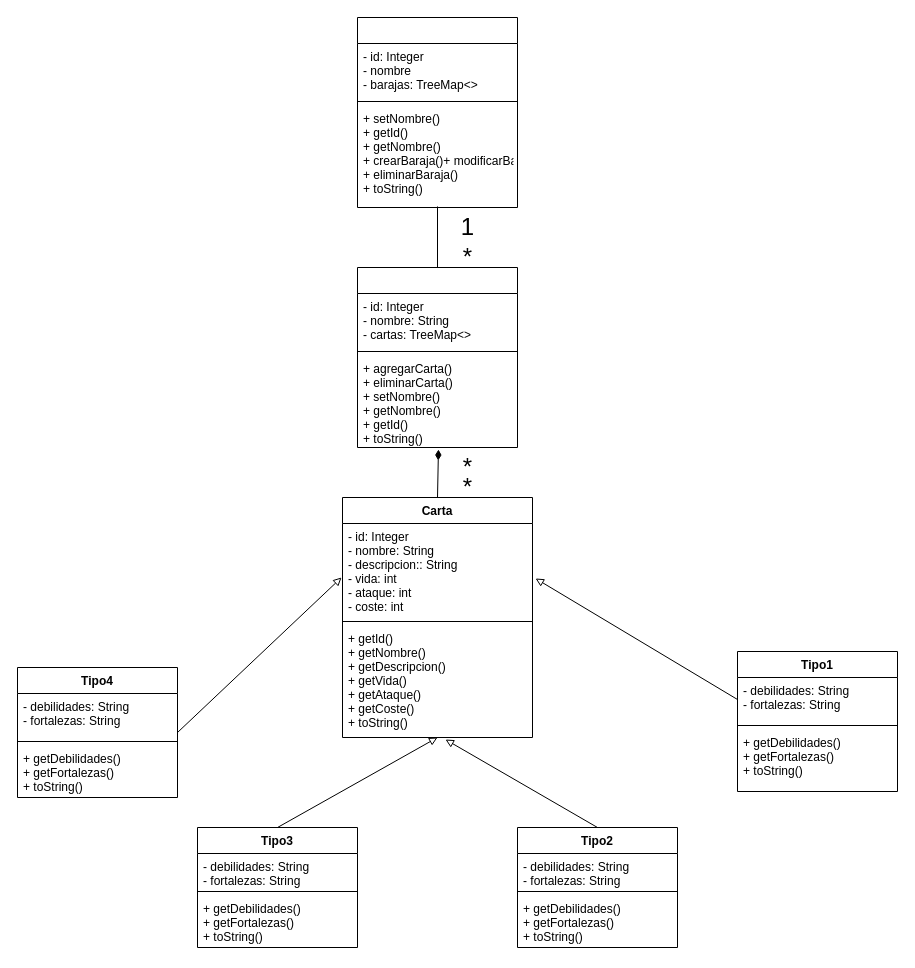
Some shapes in this 915 by 968 pixel diagram are drawn without their labels. The shapes that lost their labels are listed below. From the top down, each one's box as (x1, y1, x2, y2) in pixels, then its label:
(356, 16, 518, 208): Usuario
(356, 266, 518, 448): Baraja
